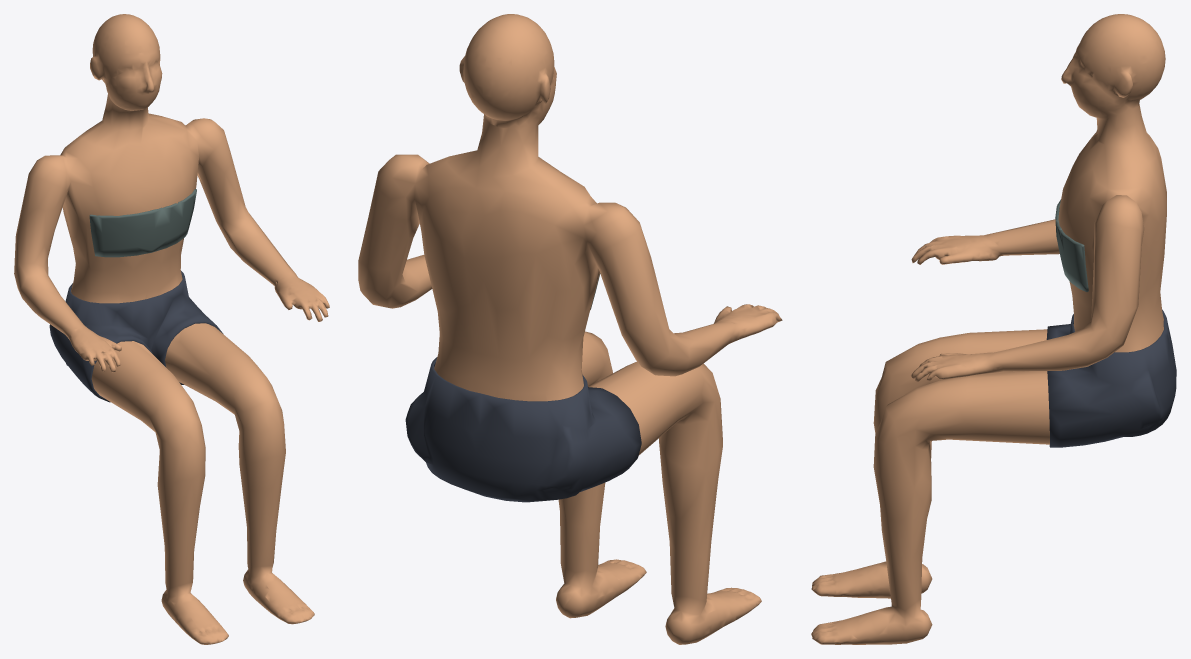
File: ink-mannequin.glb
The picture shows the model from 3 angles, left to right: view 1: azimuth 30°, elevation 25°; view 2: azimuth 150°, elevation 25°; view 3: azimuth 270°, elevation 25°; orthographic projection. The views are drawn at different scales.
Visible parts, largest first — view 1: body, cloth_shorts, cloth_top; view 2: body, cloth_shorts; view 3: body, cloth_shorts, cloth_top.
Boxes of the visible parts, x1=… form: body: x1=14, y1=14, x2=329, y2=644; cloth_shorts: x1=49, y1=271, x2=223, y2=402; cloth_top: x1=89, y1=189, x2=196, y2=257; body: x1=358, y1=14, x2=782, y2=644; cloth_shorts: x1=405, y1=357, x2=641, y2=502; body: x1=811, y1=14, x2=1166, y2=644; cloth_shorts: x1=1046, y1=309, x2=1176, y2=447; cloth_top: x1=1055, y1=199, x2=1088, y2=291.
Bounding box in the file's own units: 0.6864 × 1.41 × 0.7737.
